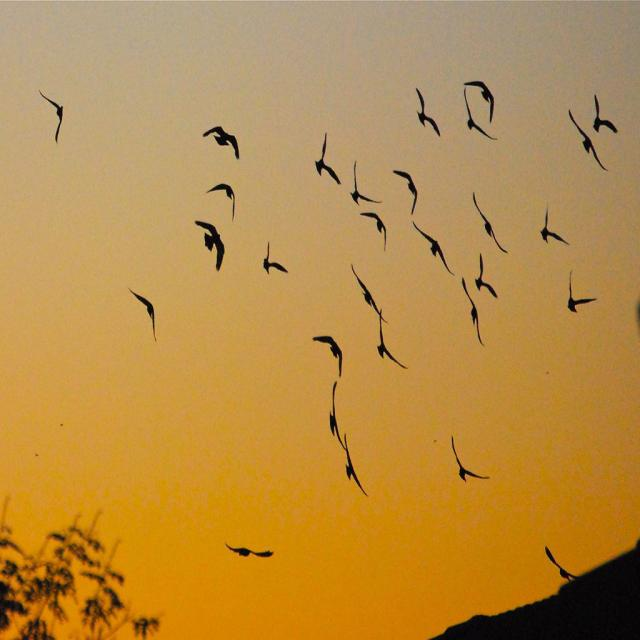bird: (450, 431, 493, 486), (314, 372, 346, 444), (469, 191, 506, 253), (347, 260, 386, 313), (568, 111, 602, 171), (375, 308, 408, 368), (464, 81, 499, 137), (338, 433, 371, 492), (415, 227, 452, 272), (196, 222, 230, 270), (313, 132, 341, 186), (563, 273, 598, 315), (348, 162, 380, 207), (204, 126, 243, 162), (37, 95, 66, 143), (543, 536, 573, 581), (130, 290, 159, 335), (416, 87, 442, 137), (540, 205, 570, 248), (592, 96, 621, 139), (465, 286, 485, 348), (392, 171, 420, 215), (312, 336, 344, 374), (205, 182, 238, 218), (475, 255, 500, 301), (359, 210, 388, 246), (224, 544, 276, 564), (260, 242, 289, 277)
